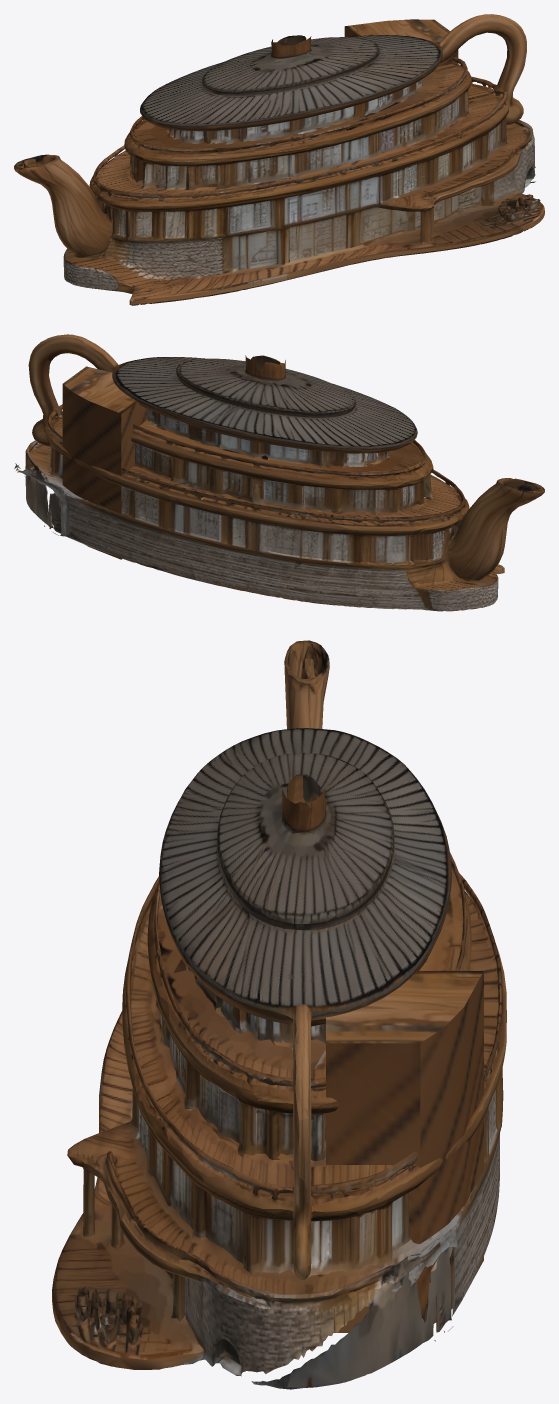
Rendered from BLDG_Teapot_Lodge.glb.
3 views of the same model, one above another, from view 1: azimuth 30°, elevation 25°; view 2: azimuth 150°, elevation 25°; view 3: azimuth 270°, elevation 25° (orthographic). The views are drawn at different scales.
Visible parts, largest first — view 1: Model; view 2: Model; view 3: Model.
Part boxes in pixels (box(x1,y1,x2,y2)): Model: box(14, 14, 544, 305); Model: box(14, 334, 544, 611); Model: box(52, 640, 506, 1389).
Size of the model in its own units: 38.56 by 13.95 by 14.79.
Materials: 1 (1 with a texture image).
